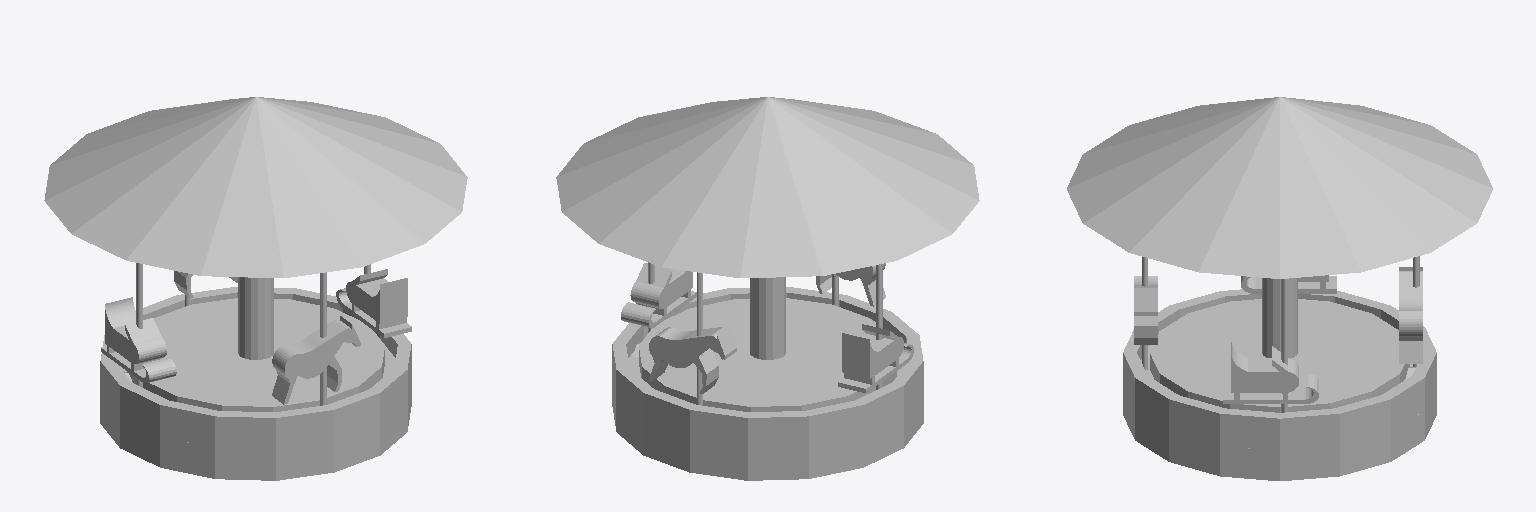
Rendered from carusel3.obj.
The picture shows the model from 3 angles: view 1: azimuth 30°, elevation 25°; view 2: azimuth 150°, elevation 25°; view 3: azimuth 270°, elevation 25°; orthographic projection.
Visible parts, largest first — view 1: 3d-model; view 2: 3d-model; view 3: 3d-model.
Boxes of the visible parts, x1=… form: 3d-model: x1=44, y1=97, x2=467, y2=480; 3d-model: x1=556, y1=97, x2=979, y2=480; 3d-model: x1=1067, y1=97, x2=1492, y2=480.
Bounding box in the file's own units: 9.85 × 8.1 × 9.85.